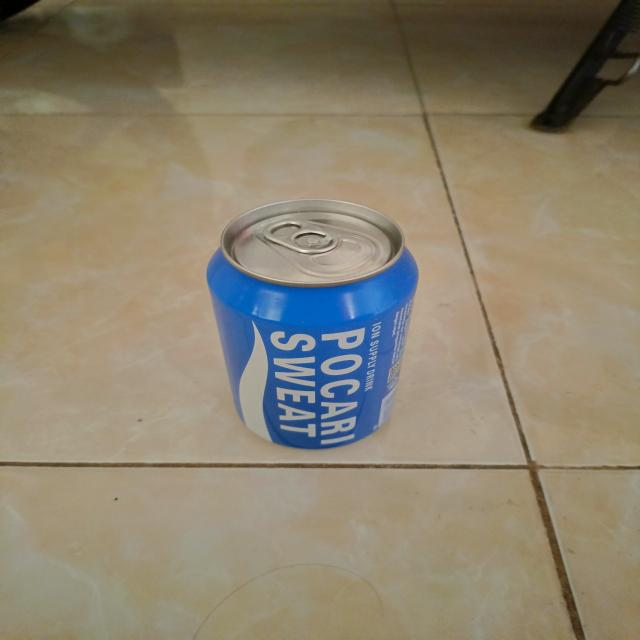pocari-sweat: (208, 194, 420, 452)
